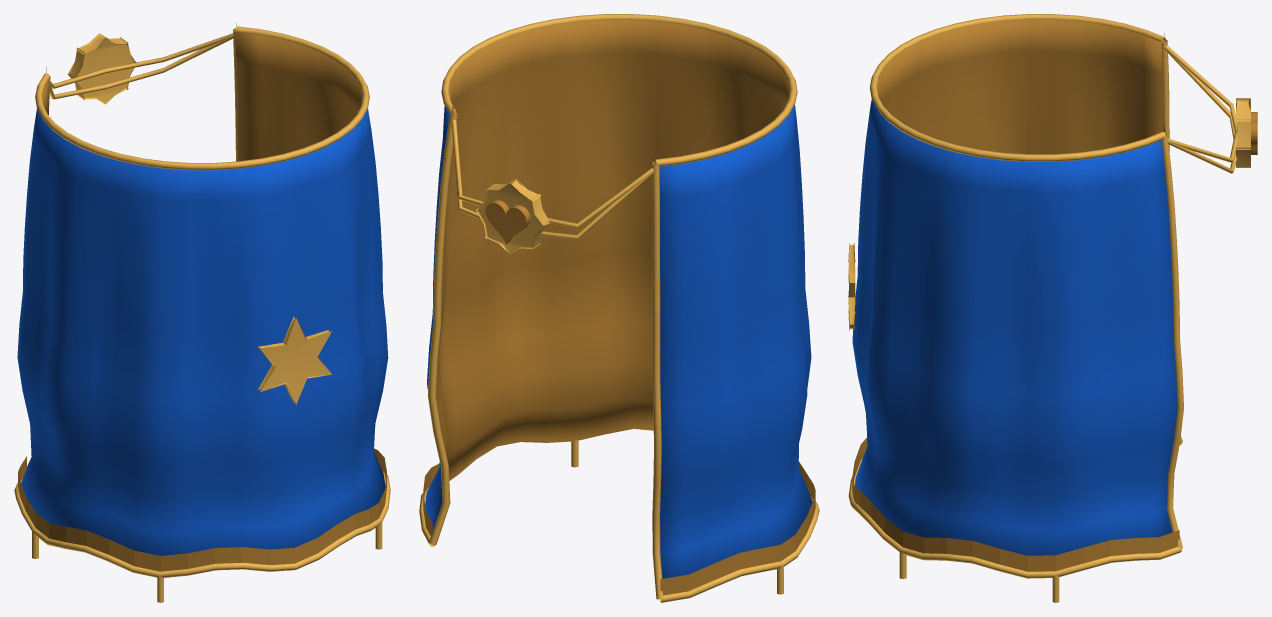
The model's file is royal-capes-knight.glb.
The picture shows the model from 3 angles, left to right: view 1: azimuth 30°, elevation 25°; view 2: azimuth 150°, elevation 25°; view 3: azimuth 270°, elevation 25°; orthographic projection. The views are drawn at different scales.
Parts seen in each view (by area): view 1: tailored_cloth, broad_embroidered_hem, tailored_gold_binding, back_heraldry, tailored_gold_binding.001, brooch_gold, clasp_chain, clasp_chain.001; view 2: tailored_cloth, tailored_gold_binding, tailored_gold_binding.003, tailored_gold_binding.002, broad_embroidered_hem, brooch_gold, tailored_gold_binding.001, brooch_jewel, clasp_chain, clasp_chain.001; view 3: tailored_cloth, broad_embroidered_hem, tailored_gold_binding, tailored_gold_binding.002, tailored_gold_binding.001, brooch_gold, clasp_chain, clasp_chain.001, tailored_gold_binding.003, back_heraldry.
Boxes of the visible parts, x1,y1,x2,y2 form: tailored_cloth: (17,32,388,555); broad_embroidered_hem: (18,448,386,571); tailored_gold_binding: (35,26,369,170); back_heraldry: (258,316,331,404); tailored_gold_binding.001: (14,471,390,577); brooch_gold: (67,33,136,104); clasp_chain: (50,33,233,88); clasp_chain.001: (49,36,233,99); tailored_cloth: (425,20,812,578); tailored_gold_binding: (441,14,797,166); tailored_gold_binding.003: (652,162,663,599); tailored_gold_binding.002: (427,113,457,544); broad_embroidered_hem: (423,461,815,595); brooch_gold: (476,178,549,254); tailored_gold_binding.001: (419,428,819,602); brooch_jewel: (485,200,530,244); clasp_chain: (451,119,653,228); clasp_chain.001: (451,126,653,239); tailored_cloth: (852,19,1177,555); broad_embroidered_hem: (852,437,1179,571); tailored_gold_binding: (869,14,1166,161); tailored_gold_binding.002: (1161,134,1183,549); tailored_gold_binding.001: (848,444,1181,578); brooch_gold: (1236,98,1250,167); clasp_chain: (1164,45,1237,162); clasp_chain.001: (1164,48,1237,173); tailored_gold_binding.003: (1161,39,1182,444); back_heraldry: (848,243,855,330).
Size of the model in its own units: 0.3834 by 0.4998 by 0.4106.
